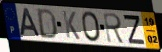A: (19, 7, 42, 38)
D: (37, 8, 58, 40)
K: (61, 9, 82, 41)
O: (80, 11, 102, 44)
R: (102, 12, 127, 45)
Z: (121, 13, 147, 46)
